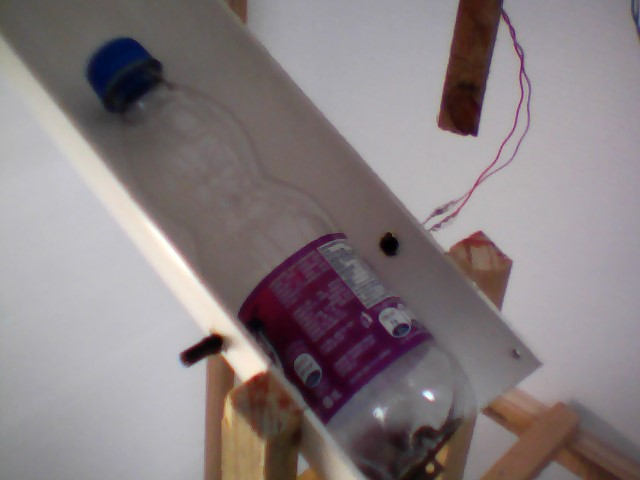plastico: (78, 26, 482, 480)
